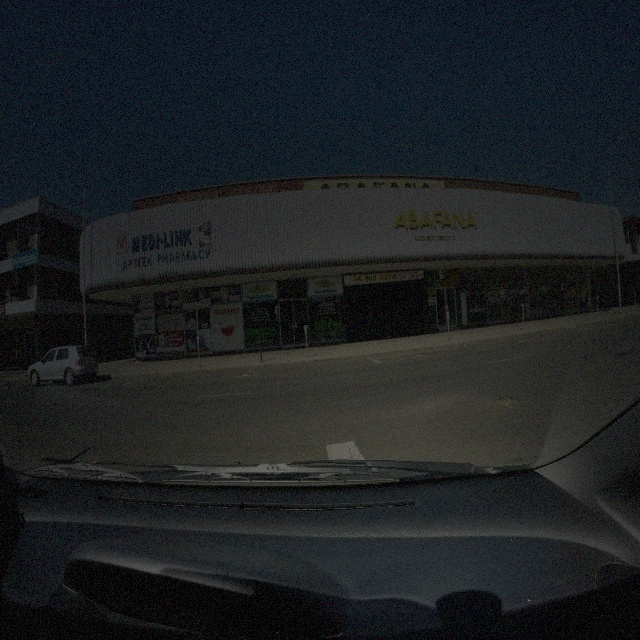pothole: (492, 392, 518, 406)
